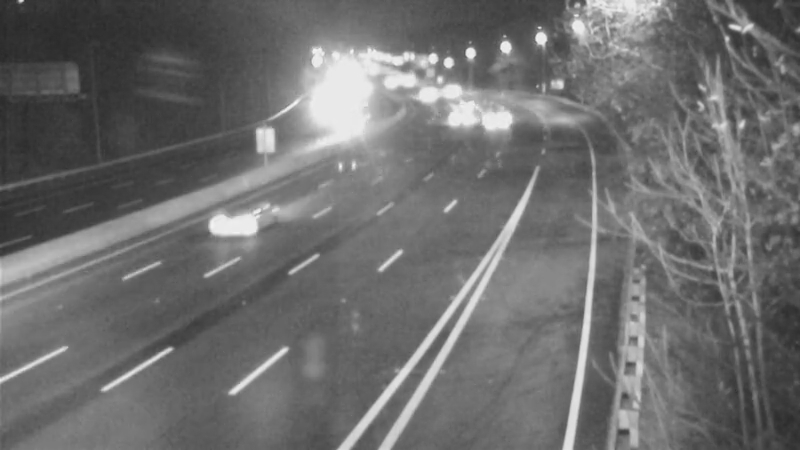vehicle: (191, 192, 271, 272), (431, 64, 481, 114), (401, 68, 451, 118), (434, 77, 484, 127), (465, 97, 515, 147), (434, 93, 484, 143), (341, 96, 391, 146)
